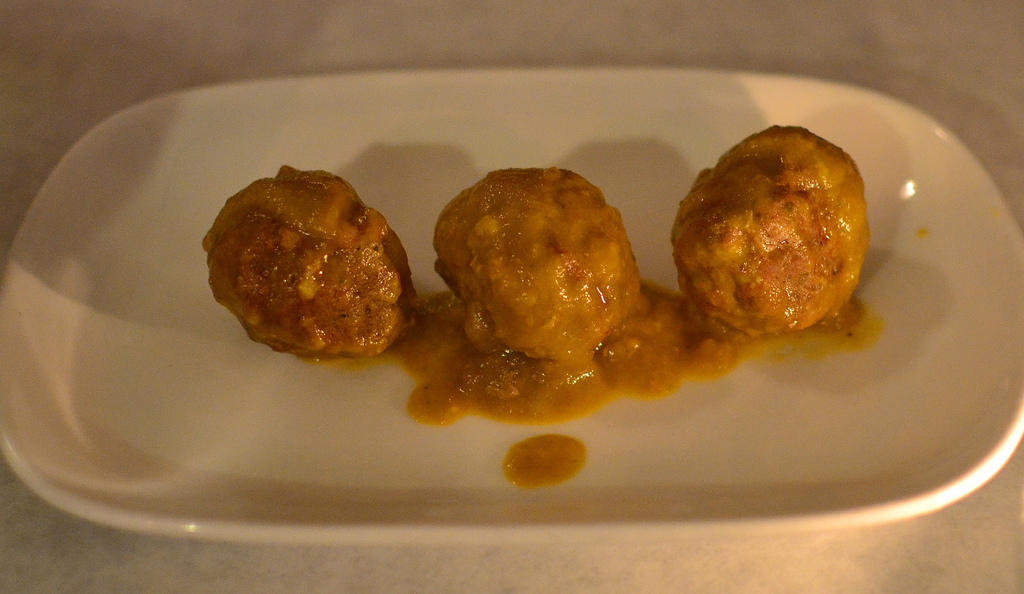meatballs: (433, 160, 633, 363), (673, 129, 866, 331), (209, 167, 408, 352)
